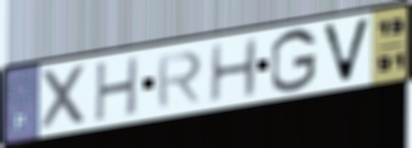G: (268, 26, 320, 95)
H: (206, 35, 260, 106), (91, 53, 143, 126)
R: (155, 49, 206, 111)
V: (318, 15, 374, 85)
X: (40, 61, 91, 134)
